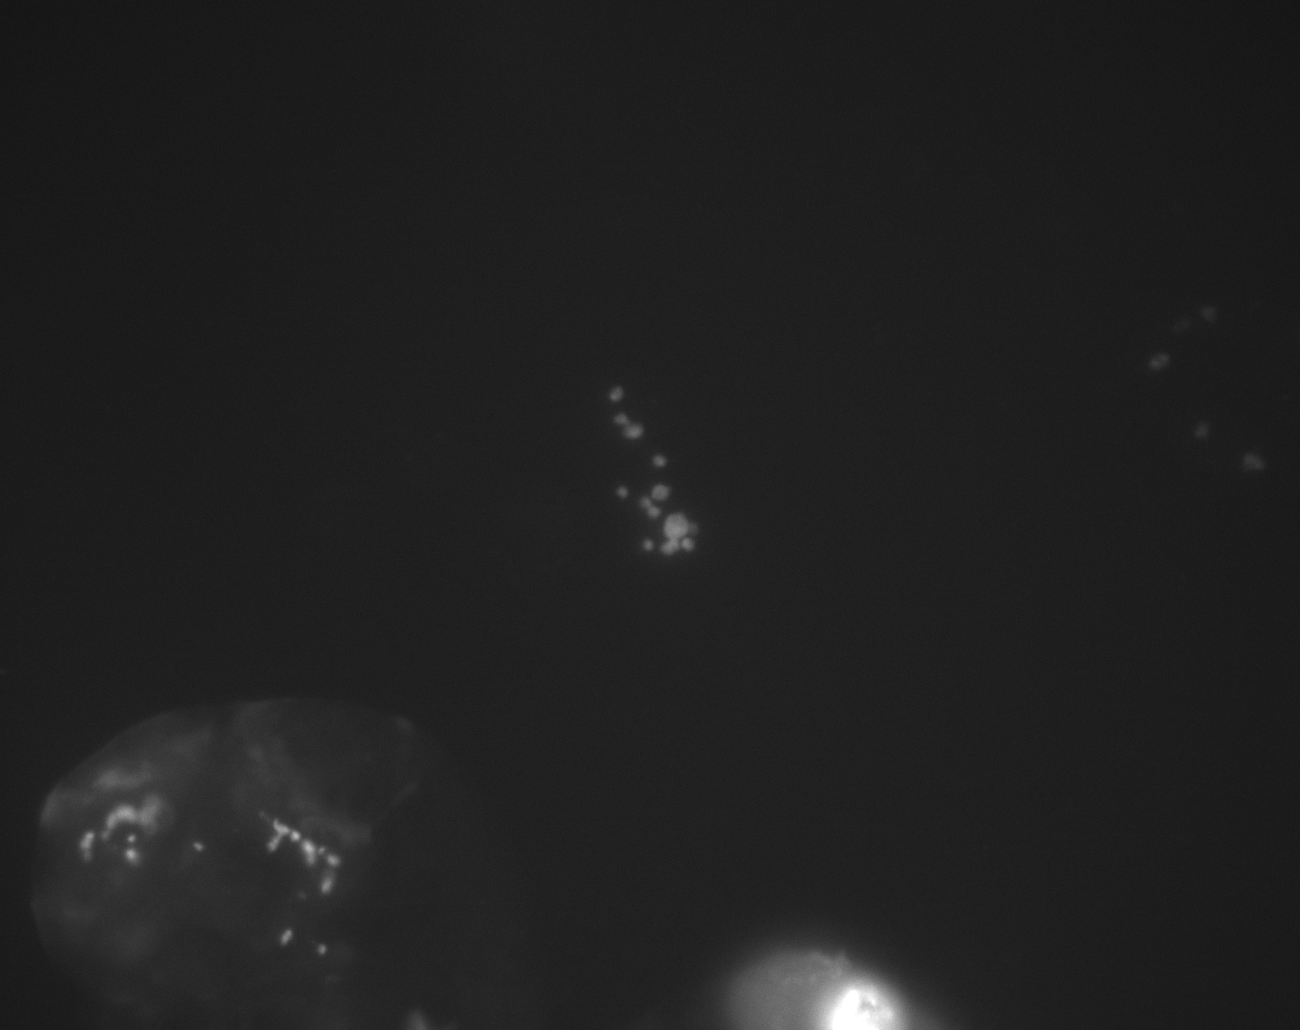Others: (1, 660, 496, 999), (625, 891, 1029, 1030)
